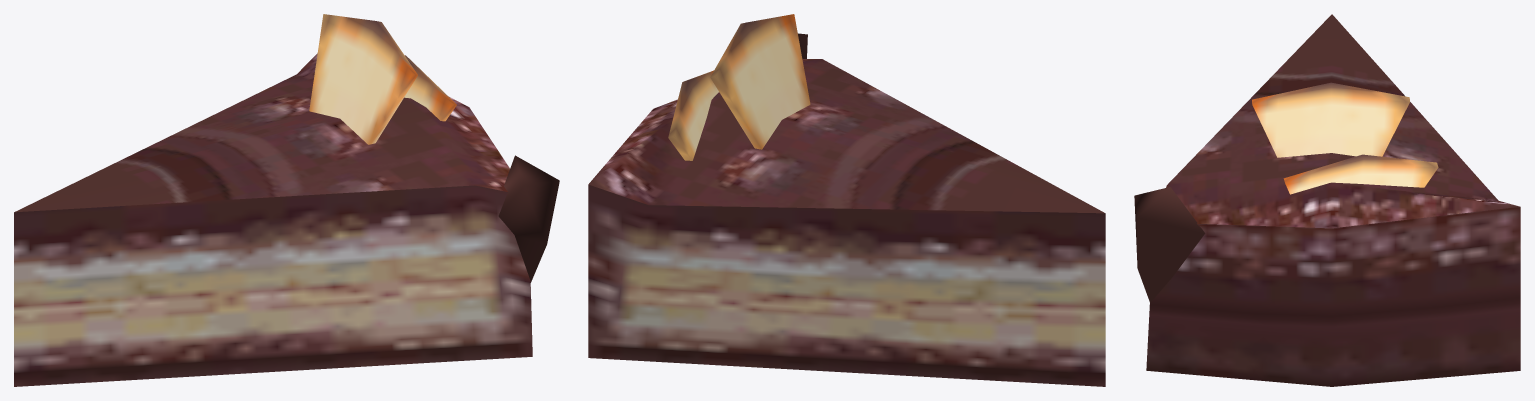
File: edb_food_cake_slice_s1_l1.fbx
The picture shows the model from 3 angles, left to right: view 1: azimuth 30°, elevation 25°; view 2: azimuth 150°, elevation 25°; view 3: azimuth 270°, elevation 25°; orthographic projection. The views are drawn at different scales.
Parts seen in each view (by area): view 1: mesh_node; view 2: mesh_node; view 3: mesh_node.
Part boxes in pixels (x1,y1,x2,y2): mesh_node: (14,14,559,386); mesh_node: (588,14,1105,386); mesh_node: (1134,14,1520,386).
Size of the model in its own units: 0.2581 by 0.1507 by 0.2018.
1 material, 1 textured.
